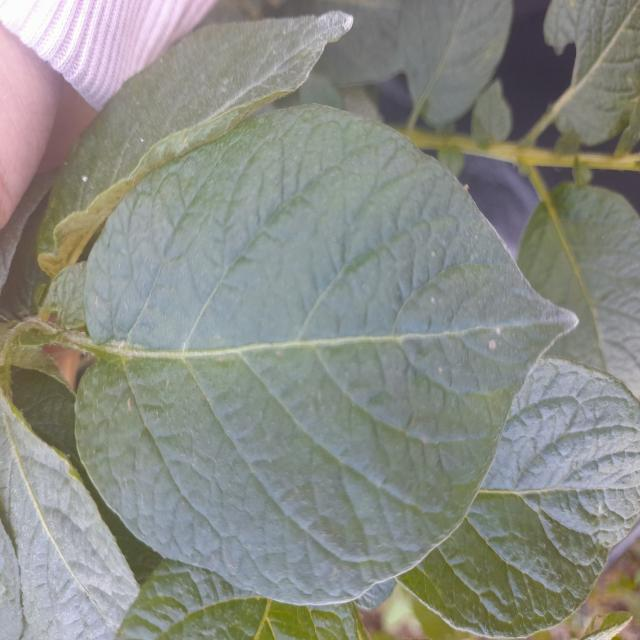healthy: (70, 101, 580, 610)
